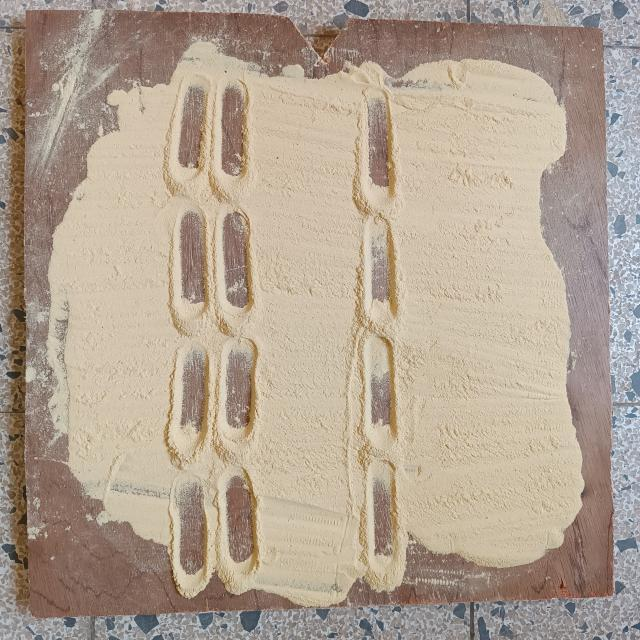double: (163, 464, 266, 602), (165, 332, 262, 472), (163, 74, 260, 204), (163, 205, 259, 335)
single: (355, 456, 412, 598), (348, 76, 402, 212), (350, 205, 408, 328), (356, 324, 408, 456)
